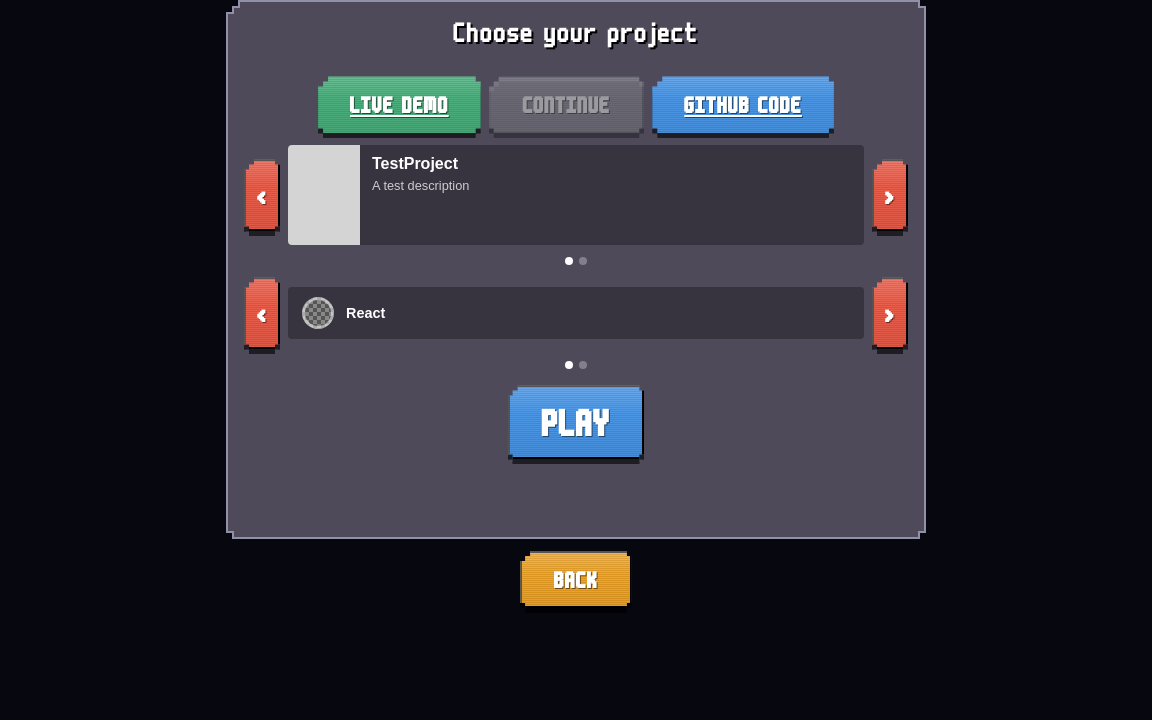
PlayModal › next stakes arrow cycles tag
Step 1. Click the button ">" in the row of "React" → (890, 313), box [872,277,908,349]
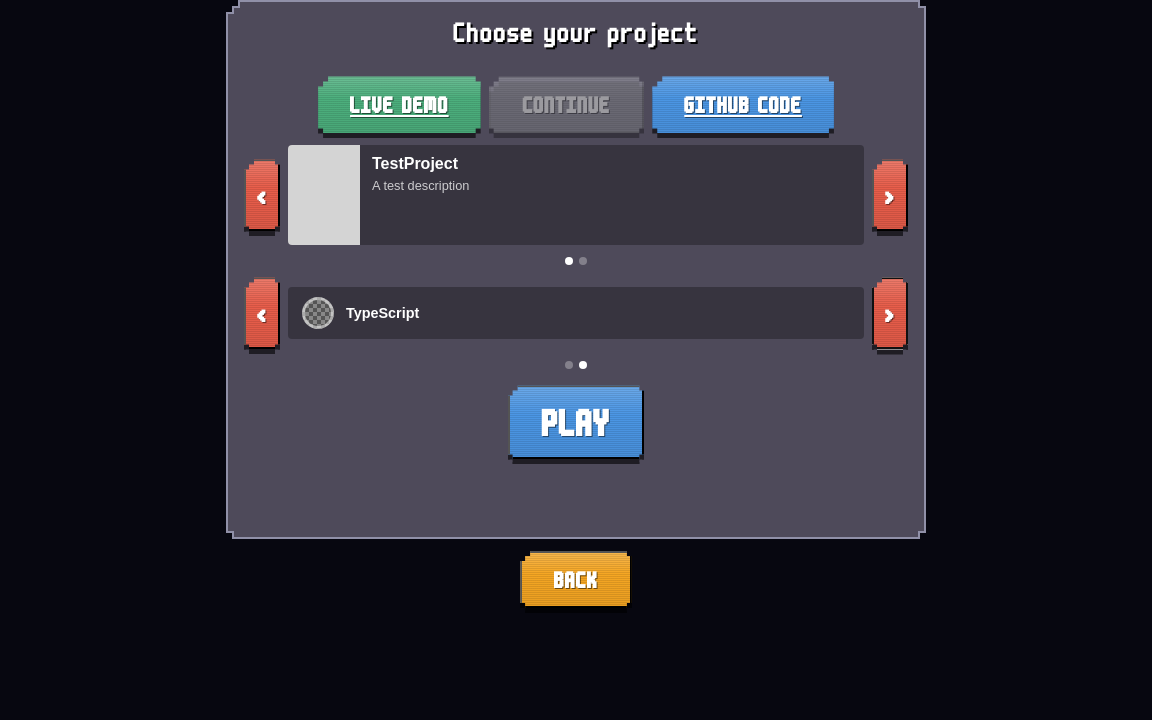
Expected: the text "TypeScript" is shown, [346,305,419,321]
